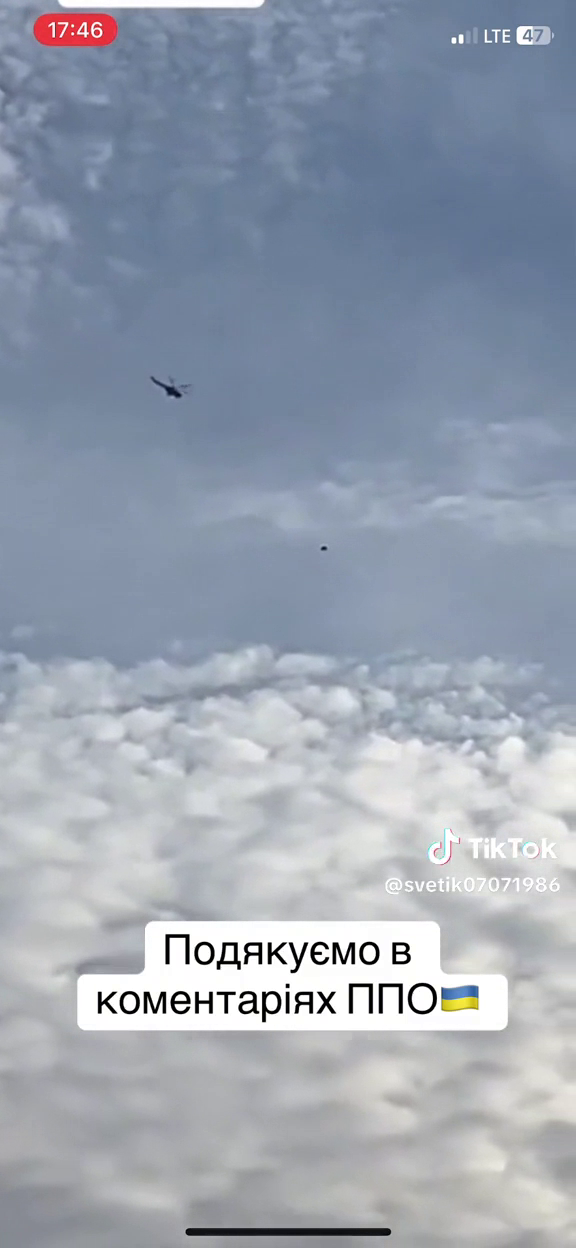not_drone: (142, 366, 198, 406)
